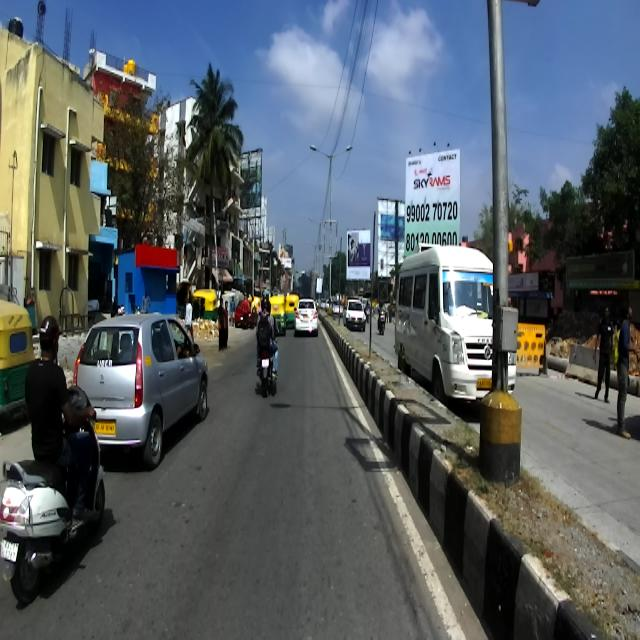car ahead at: (64, 306, 216, 471)
motorcycle ahead at: (2, 435, 110, 604), (252, 349, 282, 397)
